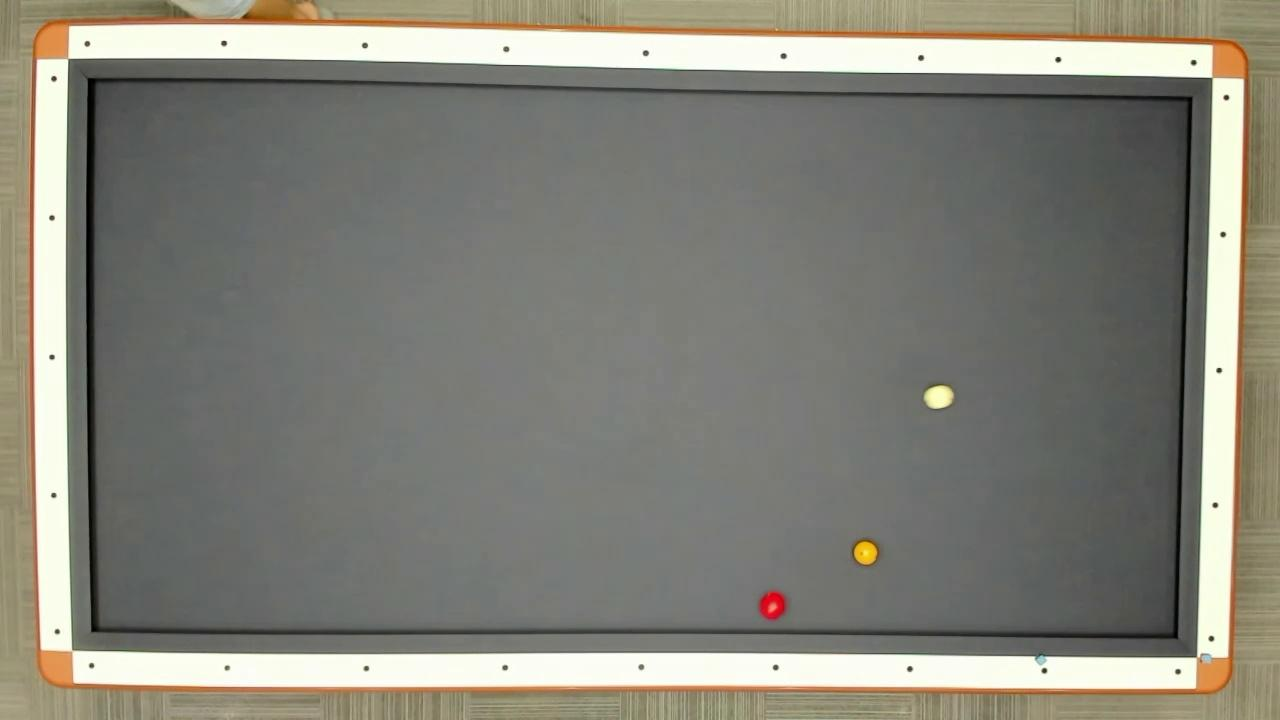Red: (758, 588, 789, 622)
White: (921, 382, 956, 412)
Yellow: (852, 539, 880, 567)
